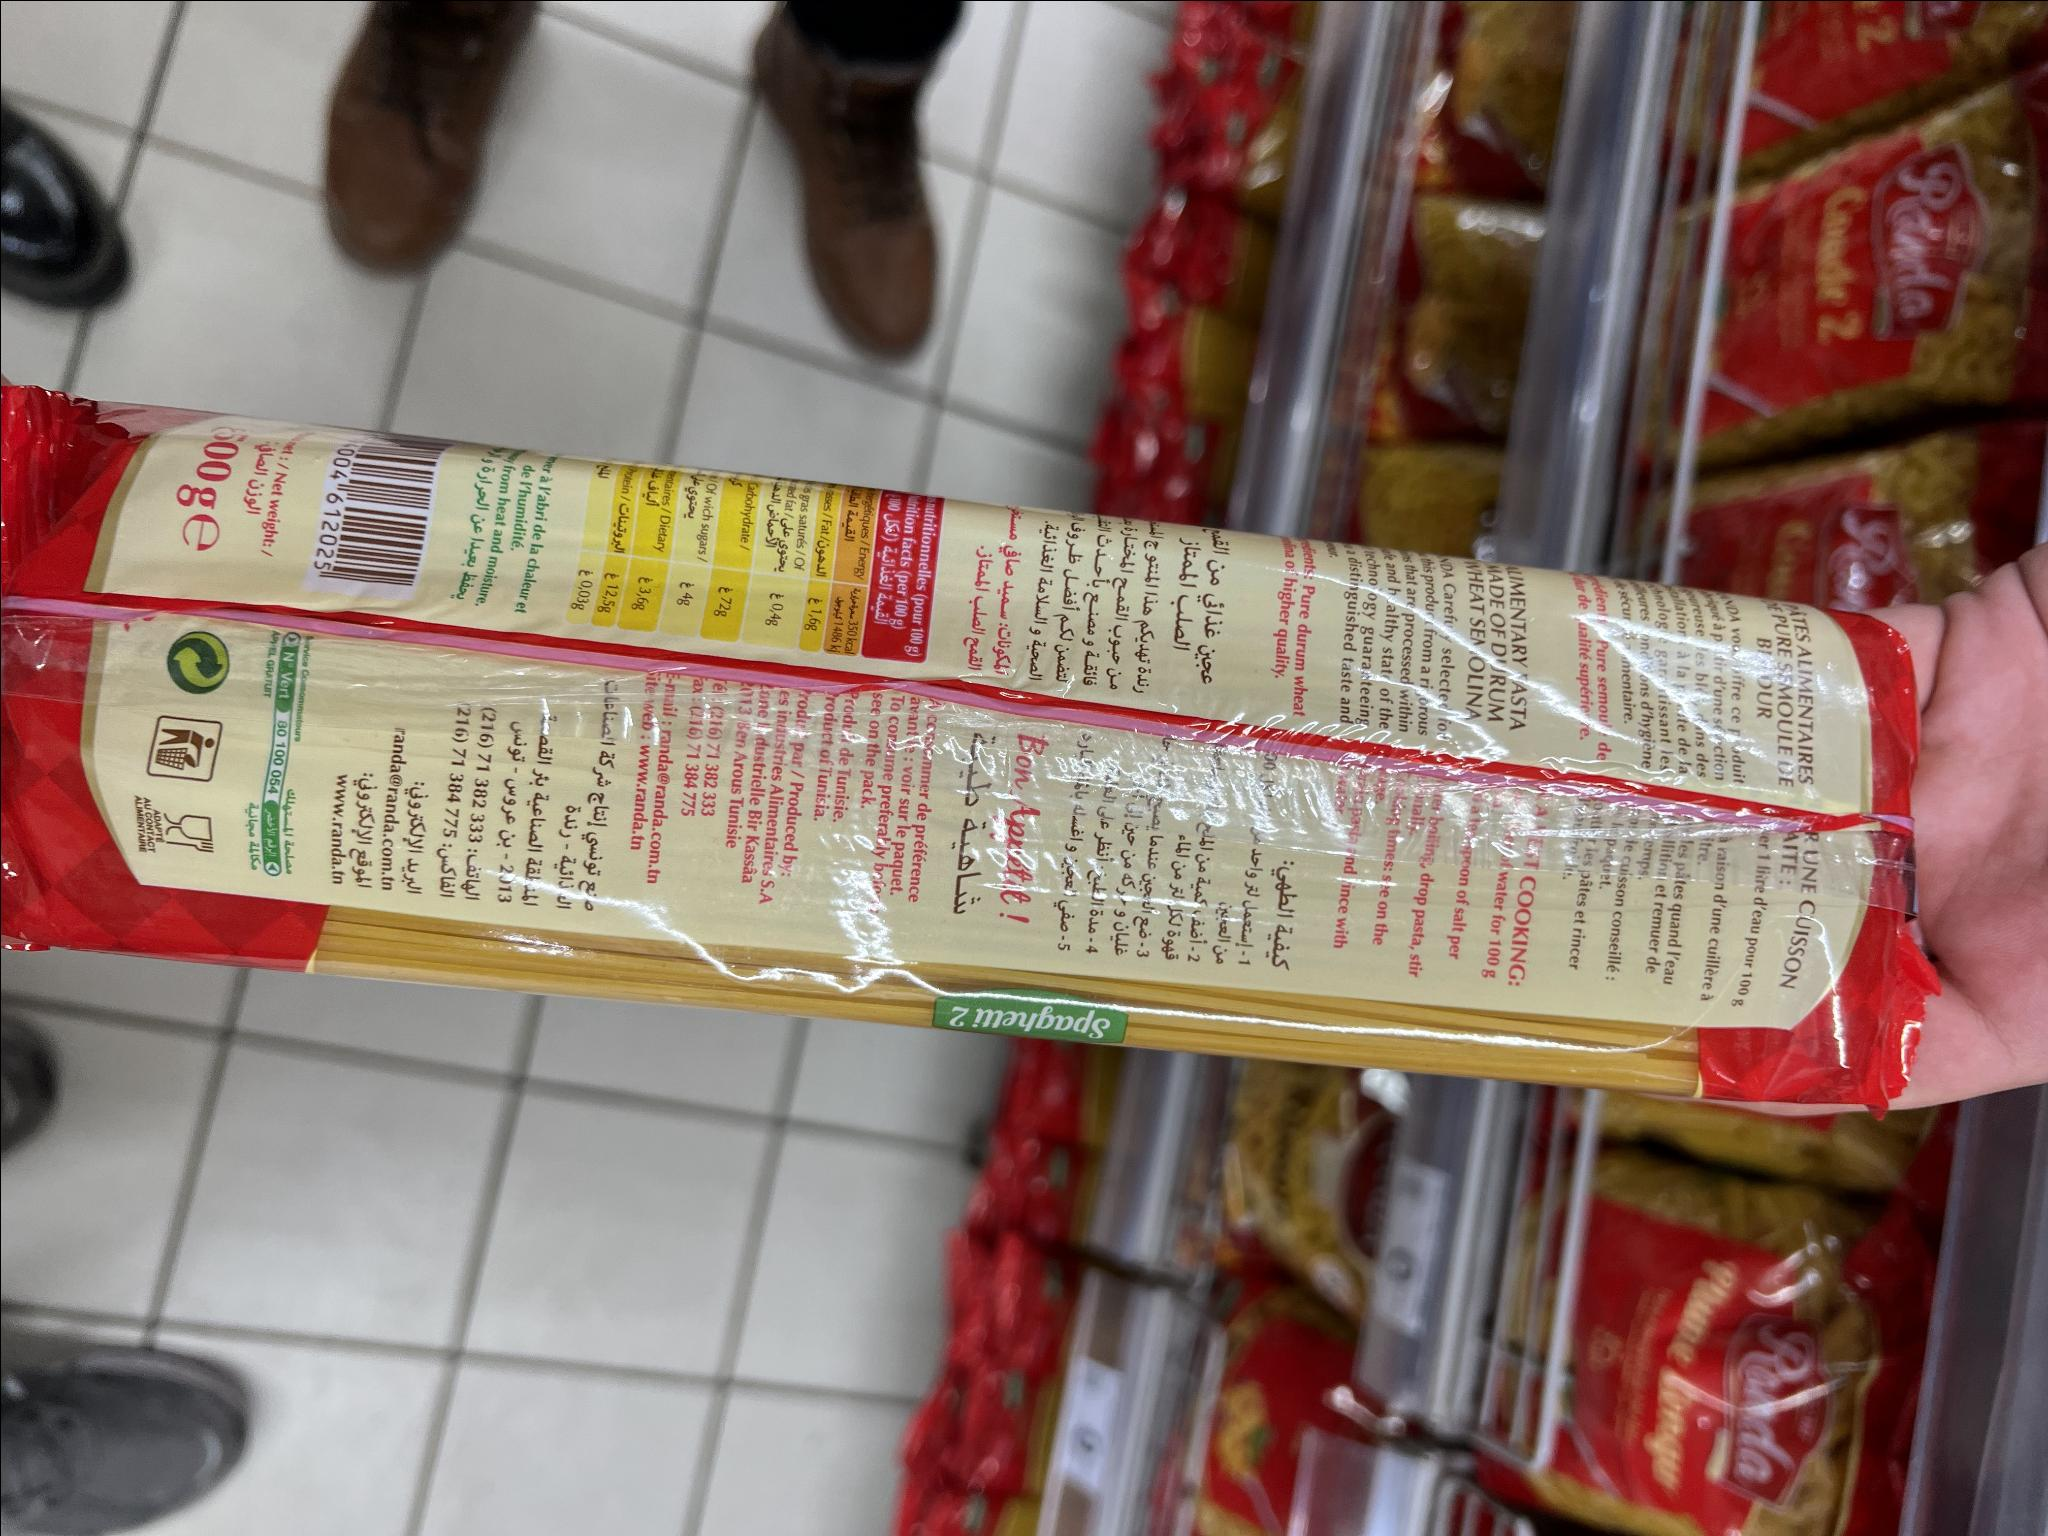Spaghetti: (2, 382, 1879, 1076)
